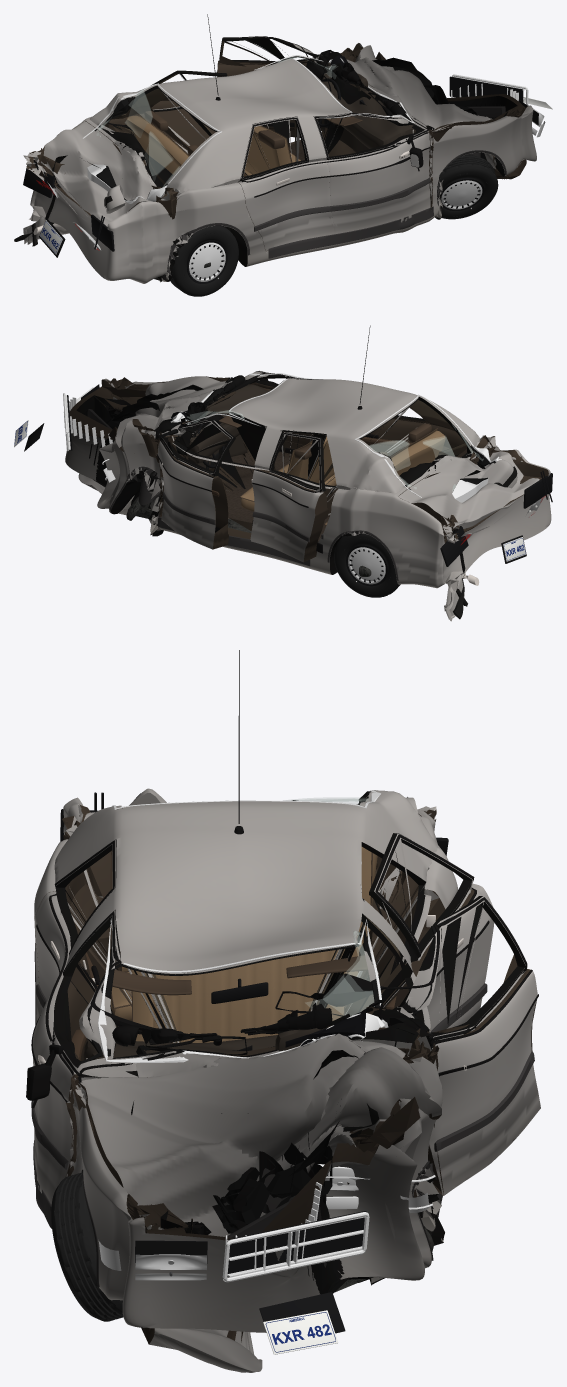
The model's file is sedan87_front_corner_d3.glb.
3 views of the same model, one above another, from view 1: azimuth 30°, elevation 25°; view 2: azimuth 150°, elevation 25°; view 3: azimuth 270°, elevation 25° (orthographic). The views are drawn at different scales.
Parts seen in each view (by area): view 1: Body, Door_FR, Interior, Trunk, Door_RR, Hood, Glass, Wheel_RR_mesh, Ends, Trim, Wheel_FR_mesh, Trim_FR (+6 smaller); view 2: Body, Door_FL, Door_RL, Interior, Trunk, Glass, Hood, Ends, Wheel_RL_mesh, Trim, Bumper_R, Trim_FL (+6 smaller); view 3: Body, Hood, Door_FL, Interior, Ends, Door_FR, Door_RL, Glass, Engine, Wheel_FR_mesh, Trim_FL, Trim (+4 smaller).
Part boxes in pixels (box(x1,y1,x2,y2)): Body: box(23, 43, 536, 283); Door_FR: box(313, 113, 432, 234); Interior: box(126, 55, 416, 176); Trunk: box(37, 121, 161, 226); Door_RR: box(238, 116, 334, 250); Hood: box(328, 45, 526, 179); Glass: box(83, 55, 414, 203); Wheel_RR_mesh: box(170, 225, 238, 296); Ends: box(23, 74, 552, 257); Trim: box(167, 14, 506, 275); Wheel_FR_mesh: box(439, 155, 498, 219); Trim_FR: box(314, 92, 430, 211); Body: box(65, 377, 551, 592); Door_FL: box(154, 420, 235, 549); Door_RL: box(250, 432, 329, 562); Interior: box(170, 385, 445, 525); Trunk: box(398, 447, 539, 530); Glass: box(173, 373, 501, 502); Hood: box(78, 376, 230, 493); Ends: box(14, 384, 552, 566); Wheel_RL_mesh: box(334, 534, 400, 597); Trim: box(109, 325, 398, 580); Bumper_R: box(444, 459, 517, 621); Trim_FL: box(156, 411, 232, 532); Body: box(34, 790, 457, 1332); Hood: box(75, 1023, 441, 1372); Door_FL: box(366, 896, 540, 1195); Interior: box(83, 847, 380, 1060); Ends: box(60, 792, 448, 1354); Door_FR: box(33, 910, 137, 1204); Door_RL: box(369, 833, 494, 1030); Glass: box(98, 790, 388, 1063); Engine: box(212, 1132, 332, 1280); Wheel_FR_mesh: box(51, 1172, 123, 1321); Trim_FL: box(275, 897, 538, 1151); Trim: box(33, 650, 442, 1286).
Size of the model in its own units: 4.85 by 2.18 by 2.16.
Materials: 32 (5 with a texture image).
